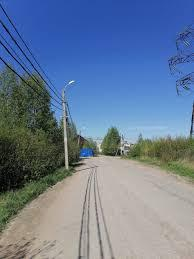Animal: (56, 70, 76, 173)
